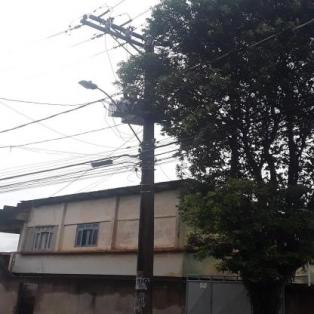Poste: (134, 29, 156, 314)
